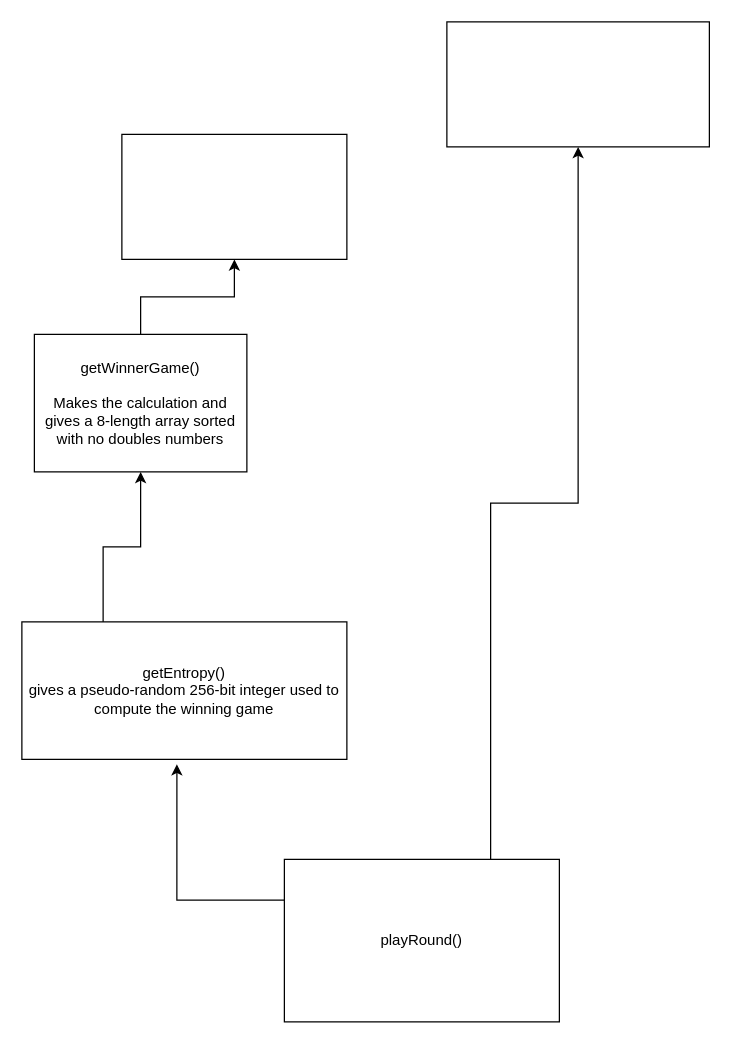
Image size: 731x1044. Some labels were removed from this diagram. Here are the shapes that lost their labels. From the top down, the centre of each, then its label:
the point at 577,84: payerWinners() pay the winners if there are any (executed after findWinners())
the point at 234,196: findWinners() looks in each player if there is a winner game
